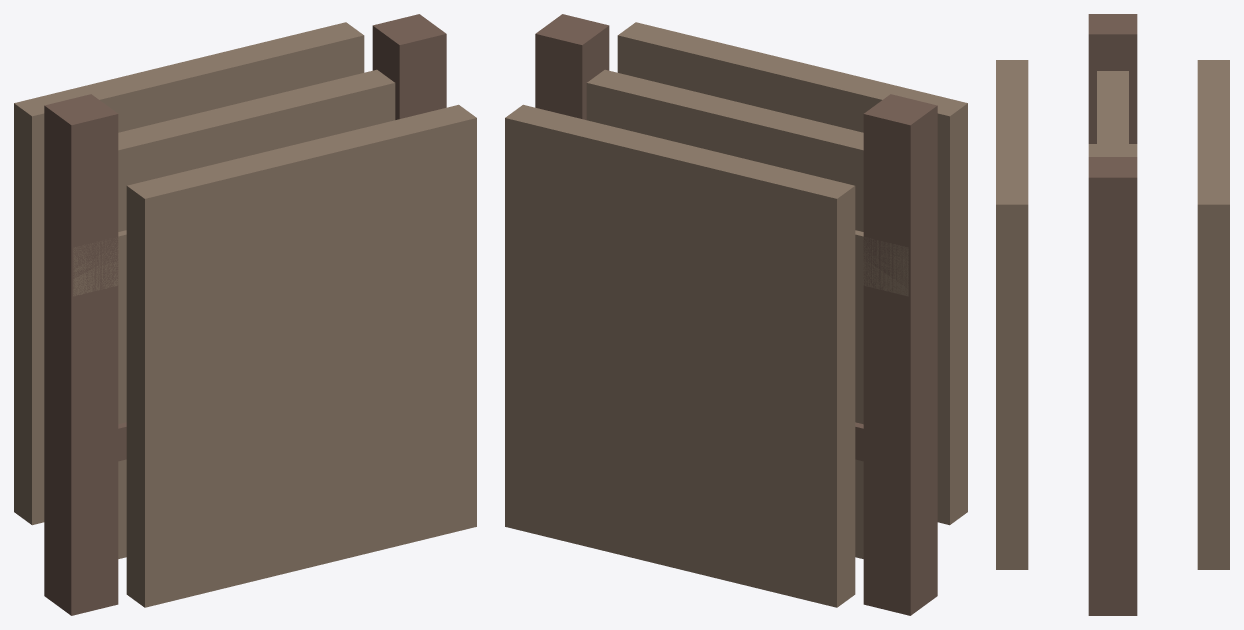
File: fence_short.glb
The picture shows the model from 3 angles, left to right: view 1: azimuth 30°, elevation 25°; view 2: azimuth 150°, elevation 25°; view 3: azimuth 270°, elevation 25°; orthographic projection. The views are drawn at different scales.
Visible parts, largest first — view 1: fence_short; view 2: fence_short; view 3: fence_short.
Boxes of the visible parts, bbox=[...] form: fence_short: bbox=[14, 14, 476, 615]; fence_short: bbox=[505, 14, 967, 615]; fence_short: bbox=[996, 14, 1229, 615].
Bounding box in the file's own units: 0.96 × 1.2 × 0.58.
